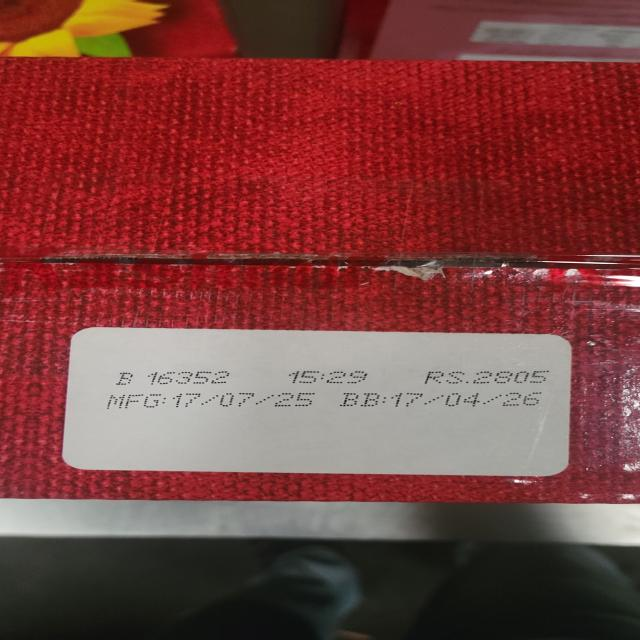BB: (343, 390, 557, 416)
Batch: (113, 369, 235, 390)
MFG: (107, 393, 327, 414)
RS: (421, 367, 558, 389)
TimeStamp: (282, 367, 378, 389)
